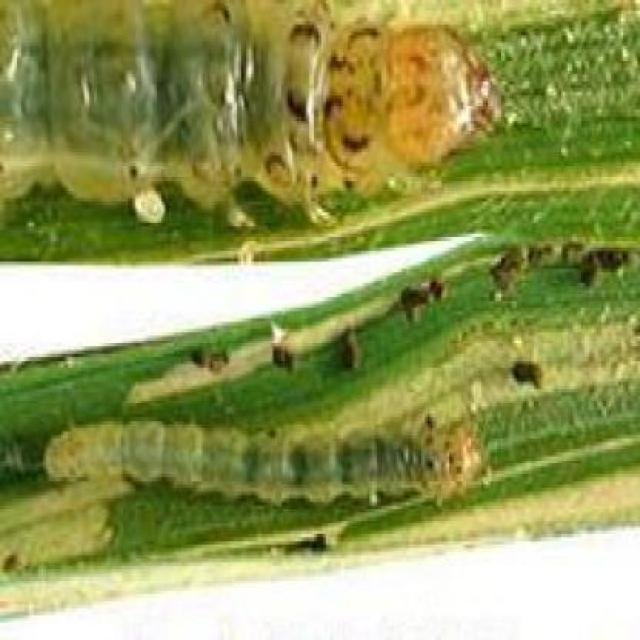leaf-folder: (41, 377, 519, 521)
